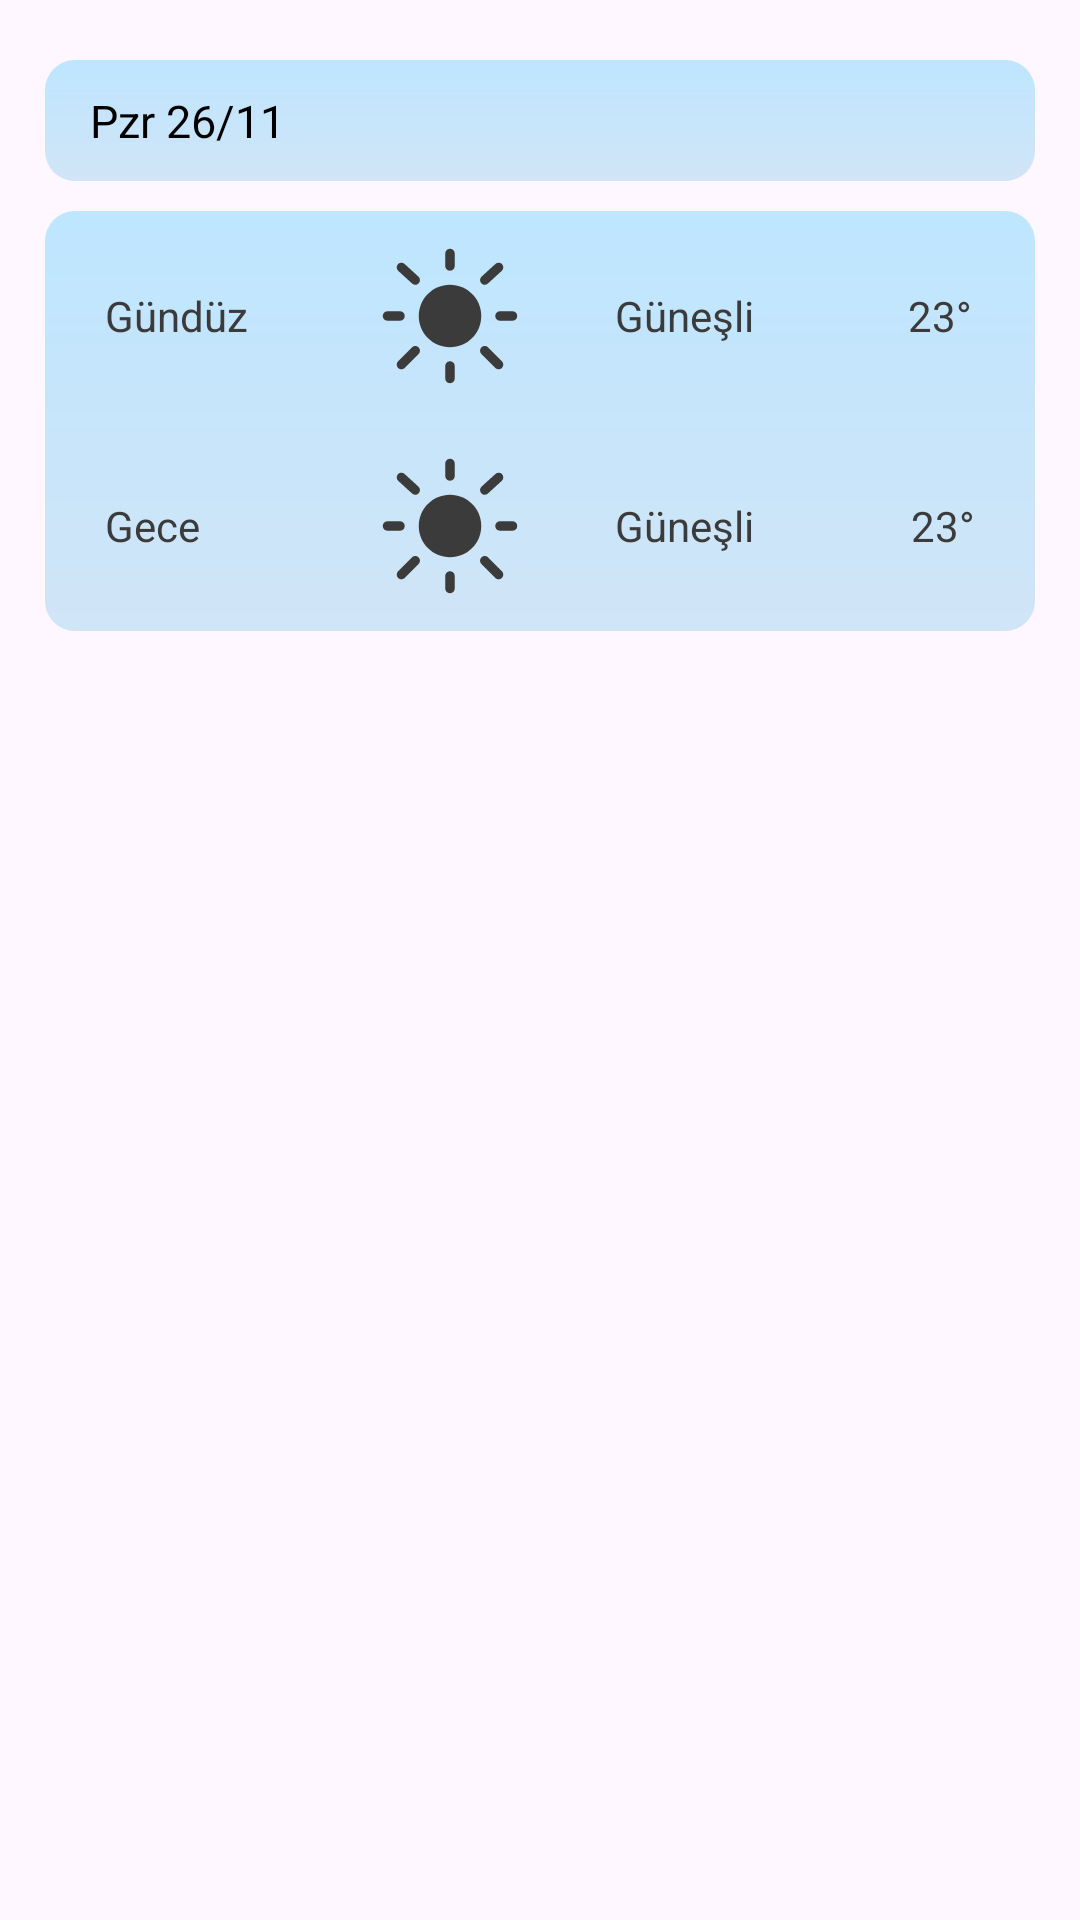

Icon bounding boxes for this 1080×1920 phone screenshot, format (x1, y1, x2, y2):
sun: (382, 248, 518, 384), (382, 458, 518, 594)
